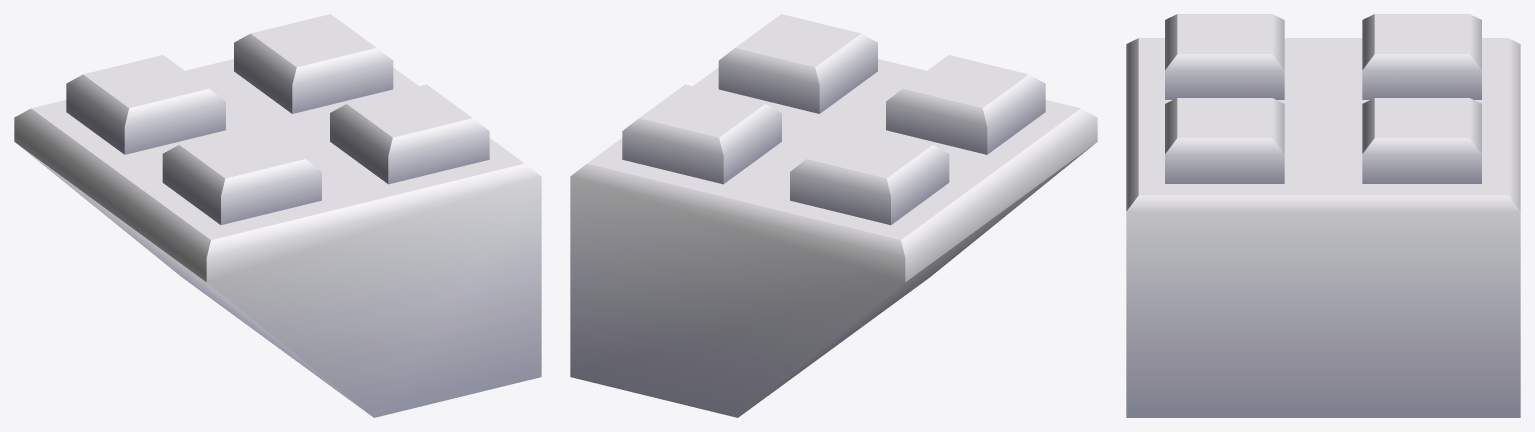
Rendered from kenney-brick-square-hq-brick-slope-inverted-2-x-2.glb.
3 views of the same model, side by side, from view 1: azimuth 30°, elevation 25°; view 2: azimuth 150°, elevation 25°; view 3: azimuth 270°, elevation 25° (orthographic). The views are drawn at different scales.
Visible parts, largest first — view 1: square-hq-brick-slope-inverted-2x2; view 2: square-hq-brick-slope-inverted-2x2; view 3: square-hq-brick-slope-inverted-2x2.
Boxes of the visible parts, bbox=[...] form: square-hq-brick-slope-inverted-2x2: bbox=[14, 14, 541, 417]; square-hq-brick-slope-inverted-2x2: bbox=[570, 14, 1097, 417]; square-hq-brick-slope-inverted-2x2: bbox=[1126, 14, 1520, 417].
Bounding box in the file's own units: 0.159 × 0.114 × 0.158.
1 material, 1 textured.
